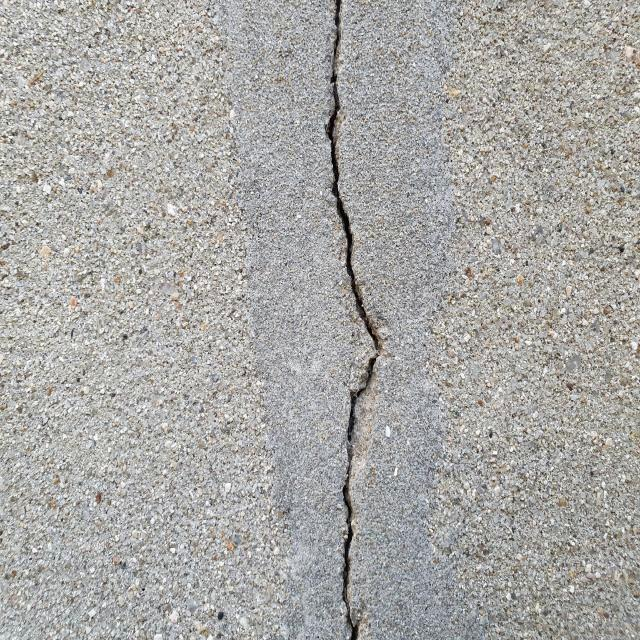SurfaceCrack: (276, 1, 422, 640)
